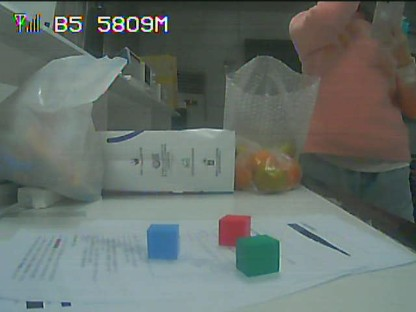b: (146, 224, 177, 257)
g: (237, 239, 279, 274)
r: (219, 215, 248, 243)
